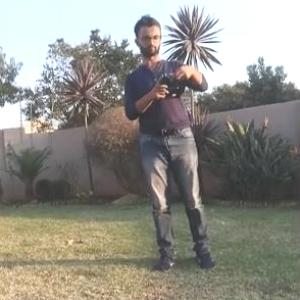follow: (118, 4, 220, 275)
